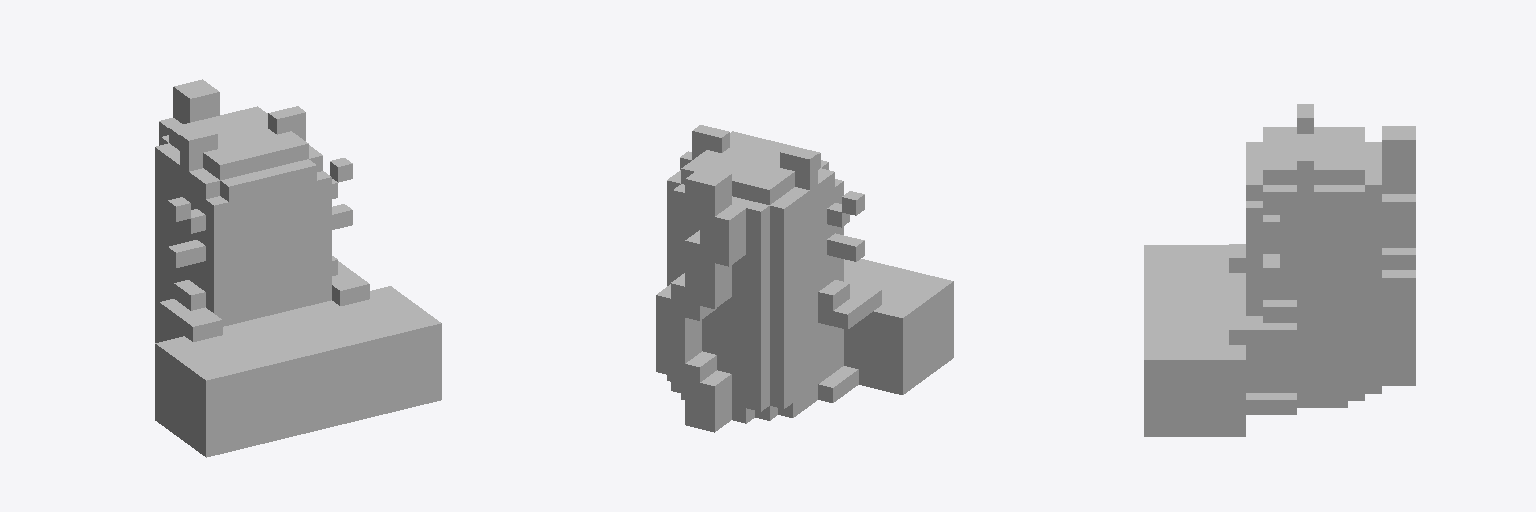
File: nyoki.obj
3 views of the same model, side by side, from view 1: azimuth 30°, elevation 25°; view 2: azimuth 150°, elevation 25°; view 3: azimuth 270°, elevation 25° (orthographic).
Size of the model in its own units: 16 by 16 by 16.